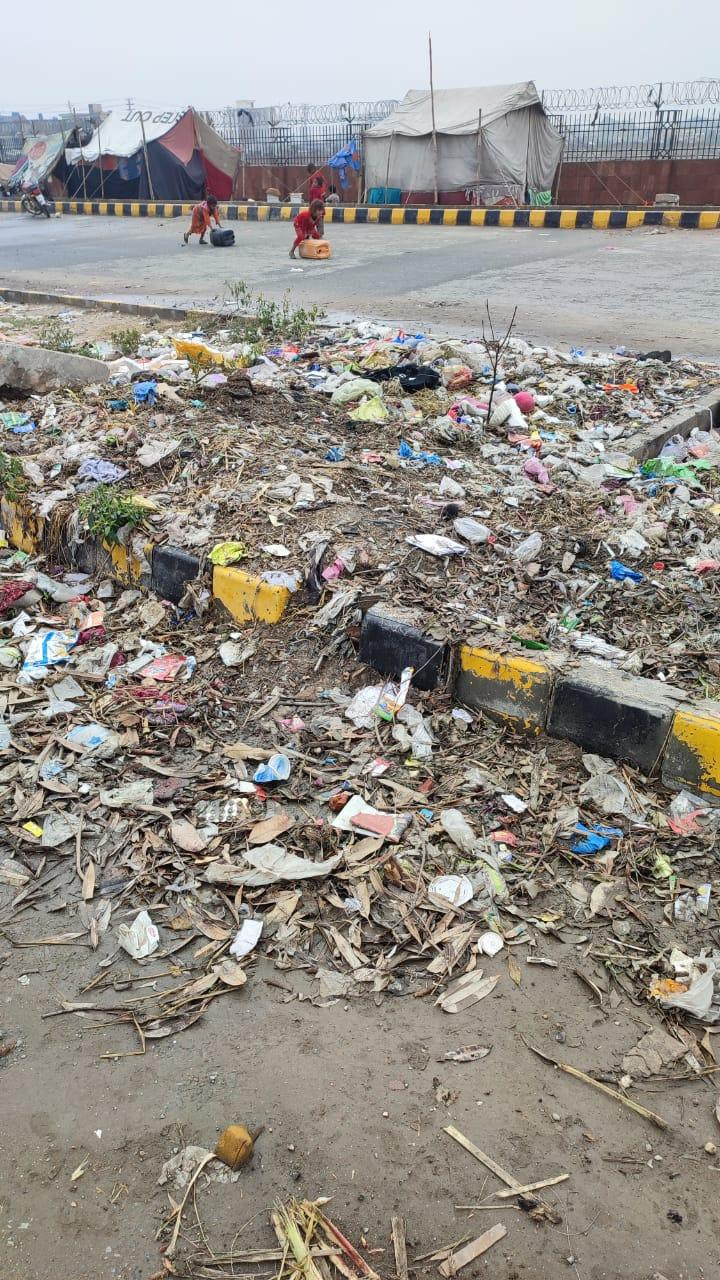garbage: (21, 318, 720, 981)
